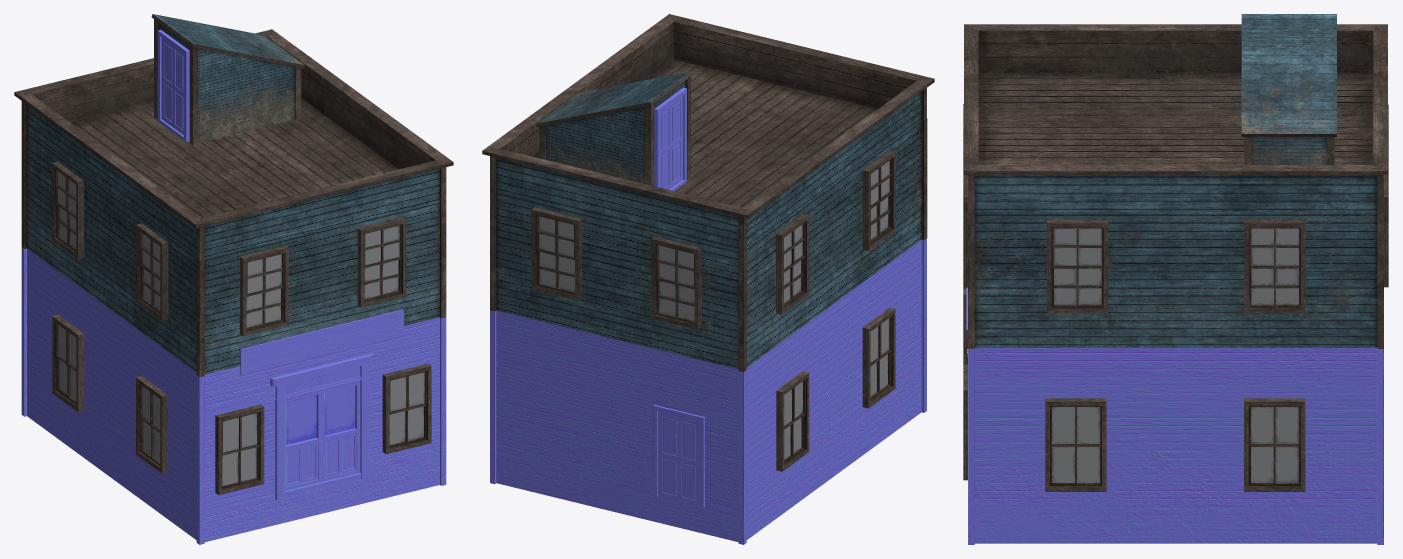
Rendered from RoofTop_Background5.fbx.
The picture shows the model from 3 angles, left to right: view 1: azimuth 30°, elevation 25°; view 2: azimuth 150°, elevation 25°; view 3: azimuth 270°, elevation 25°; orthographic projection. The views are drawn at different scales.
Visible parts, largest first — view 1: t_002_b001_2_1, t_002_b003_1, t_002_b002_2_1, other_002, ad_001, window_001_1_1, window_002_4_1, window_001_3_1, window_002_2, t002_door002, window_002_3_2, window_001_4 (+2 smaller); view 2: t_002_b001_2_1, t_002_b003_1, t_002_b002_2_1, other_002, t002_door001, window_002_1, window_002_3_1, t002_door002, window_002_3_2, window_001_4, window_001_2, window_002_4; view 3: t_002_b001_2_1, t_002_b003_1, t_002_b002_2_1, other_002, window_001_3, window_001_1, window_002_1_1, window_002_3, window_001_3_1, window_002_3_1, window_002_4_1.
Boxes of the visible parts, x1=… form: t_002_b001_2_1: x1=21, y1=247, x2=446, y2=544; t_002_b003_1: x1=14, y1=29, x2=453, y2=260; t_002_b002_2_1: x1=21, y1=131, x2=446, y2=376; other_002: x1=151, y1=14, x2=304, y2=145; ad_001: x1=240, y1=309, x2=403, y2=375; window_001_1_1: x1=215, y1=404, x2=264, y2=494; window_002_4_1: x1=357, y1=217, x2=406, y2=307; window_001_3_1: x1=382, y1=363, x2=431, y2=454; window_002_2: x1=240, y1=245, x2=288, y2=336; t002_door002: x1=157, y1=30, x2=189, y2=141; window_002_3_2: x1=136, y1=223, x2=168, y2=320; window_001_4: x1=52, y1=314, x2=84, y2=412; t_002_b001_2_1: x1=490, y1=238, x2=926, y2=544; t_002_b003_1: x1=482, y1=14, x2=934, y2=252; t_002_b002_2_1: x1=490, y1=119, x2=927, y2=371; other_002: x1=535, y1=71, x2=693, y2=186; t002_door001: x1=653, y1=405, x2=704, y2=508; window_002_1: x1=651, y1=236, x2=701, y2=329; window_002_3_1: x1=531, y1=207, x2=581, y2=300; t002_door002: x1=654, y1=87, x2=686, y2=190; window_002_3_2: x1=862, y1=150, x2=895, y2=250; window_001_4: x1=776, y1=371, x2=809, y2=471; window_001_2: x1=862, y1=308, x2=895, y2=408; window_002_4: x1=776, y1=214, x2=808, y2=314; t_002_b001_2_1: x1=966, y1=287, x2=1383, y2=544; t_002_b003_1: x1=964, y1=24, x2=1387, y2=213; t_002_b002_2_1: x1=968, y1=212, x2=1383, y2=348; other_002: x1=1241, y1=14, x2=1336, y2=164; window_001_3: x1=1244, y1=398, x2=1305, y2=491; window_001_1: x1=1045, y1=398, x2=1106, y2=491; window_002_1_1: x1=1244, y1=220, x2=1305, y2=313; window_002_3: x1=1047, y1=220, x2=1108, y2=313; window_001_3_1: x1=963, y1=364, x2=967, y2=480; window_002_3_1: x1=1384, y1=171, x2=1388, y2=287; window_002_4_1: x1=963, y1=171, x2=967, y2=287.
Size of the model in its own units: 826 by 1188 by 1009.
